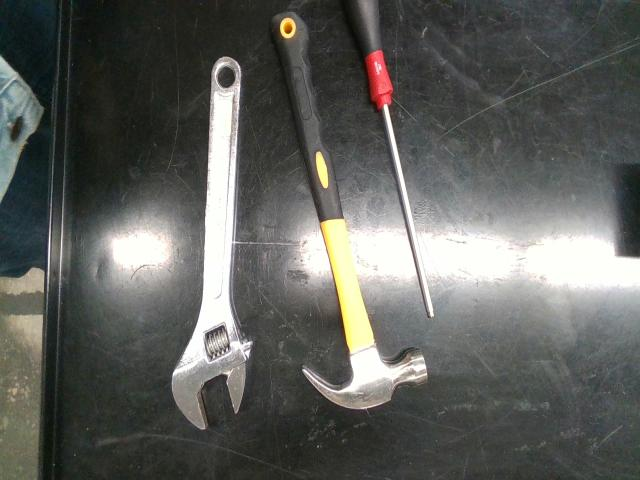Adjustable spanner: (171, 57, 252, 429)
Hammer: (270, 12, 428, 408)
Screwdriver: (345, 0, 434, 318)
